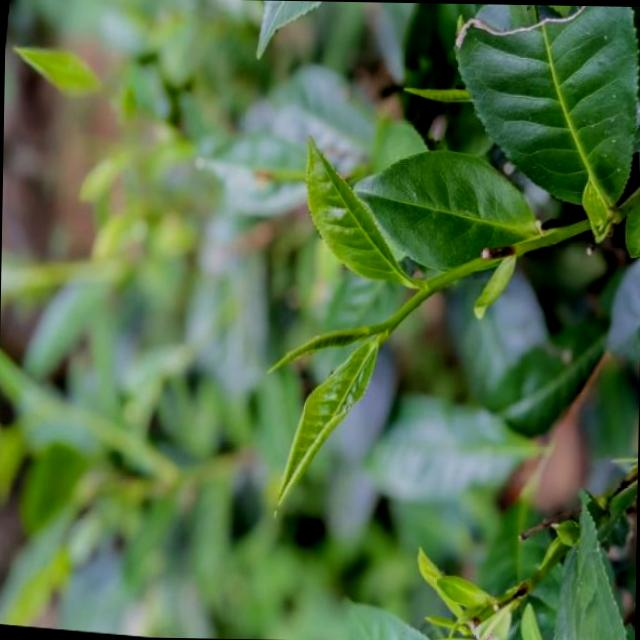Stem: (420, 280, 433, 291)
